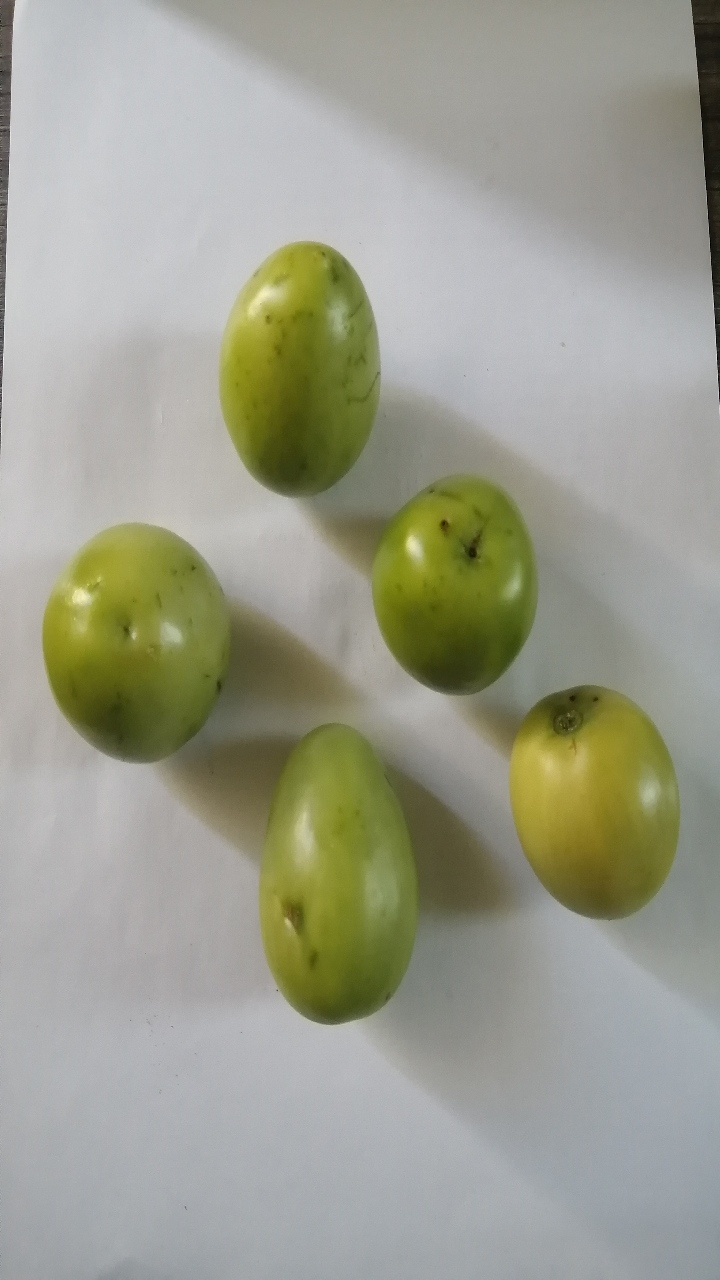tomateVerde: (244, 706, 454, 1045), (192, 203, 397, 523), (11, 508, 241, 779), (478, 672, 697, 943), (337, 463, 558, 708)
